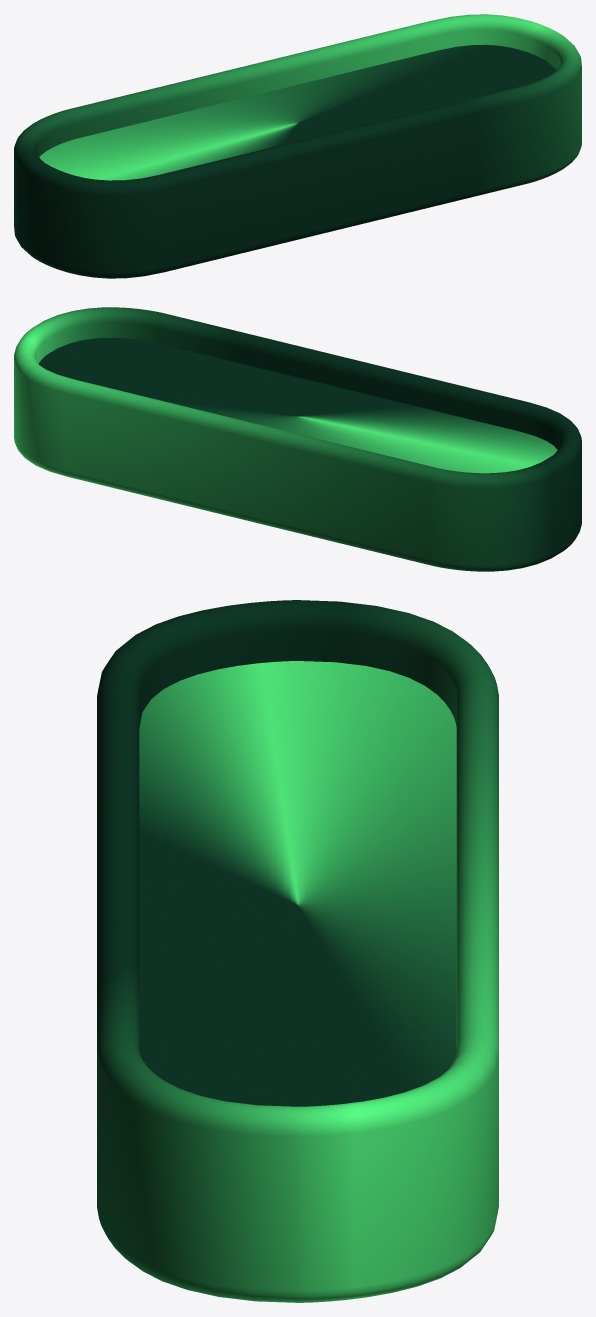
File: Paddle-20.dae
3 renders of one model, top to bottom at view 1: azimuth 30°, elevation 25°; view 2: azimuth 150°, elevation 25°; view 3: azimuth 270°, elevation 25°, orthographic. The views are drawn at different scales.
Visible parts, largest first — view 1: Paddle; view 2: Paddle; view 3: Paddle.
Boxes of the visible parts, box(x1,y1,x2,y2) form: Paddle: box(14, 14, 581, 278); Paddle: box(14, 307, 581, 571); Paddle: box(97, 600, 498, 1302).
Size of the model in its own units: 0.2922 by 0.05 by 0.0946.
Materials: 2 (2 with a texture image).
